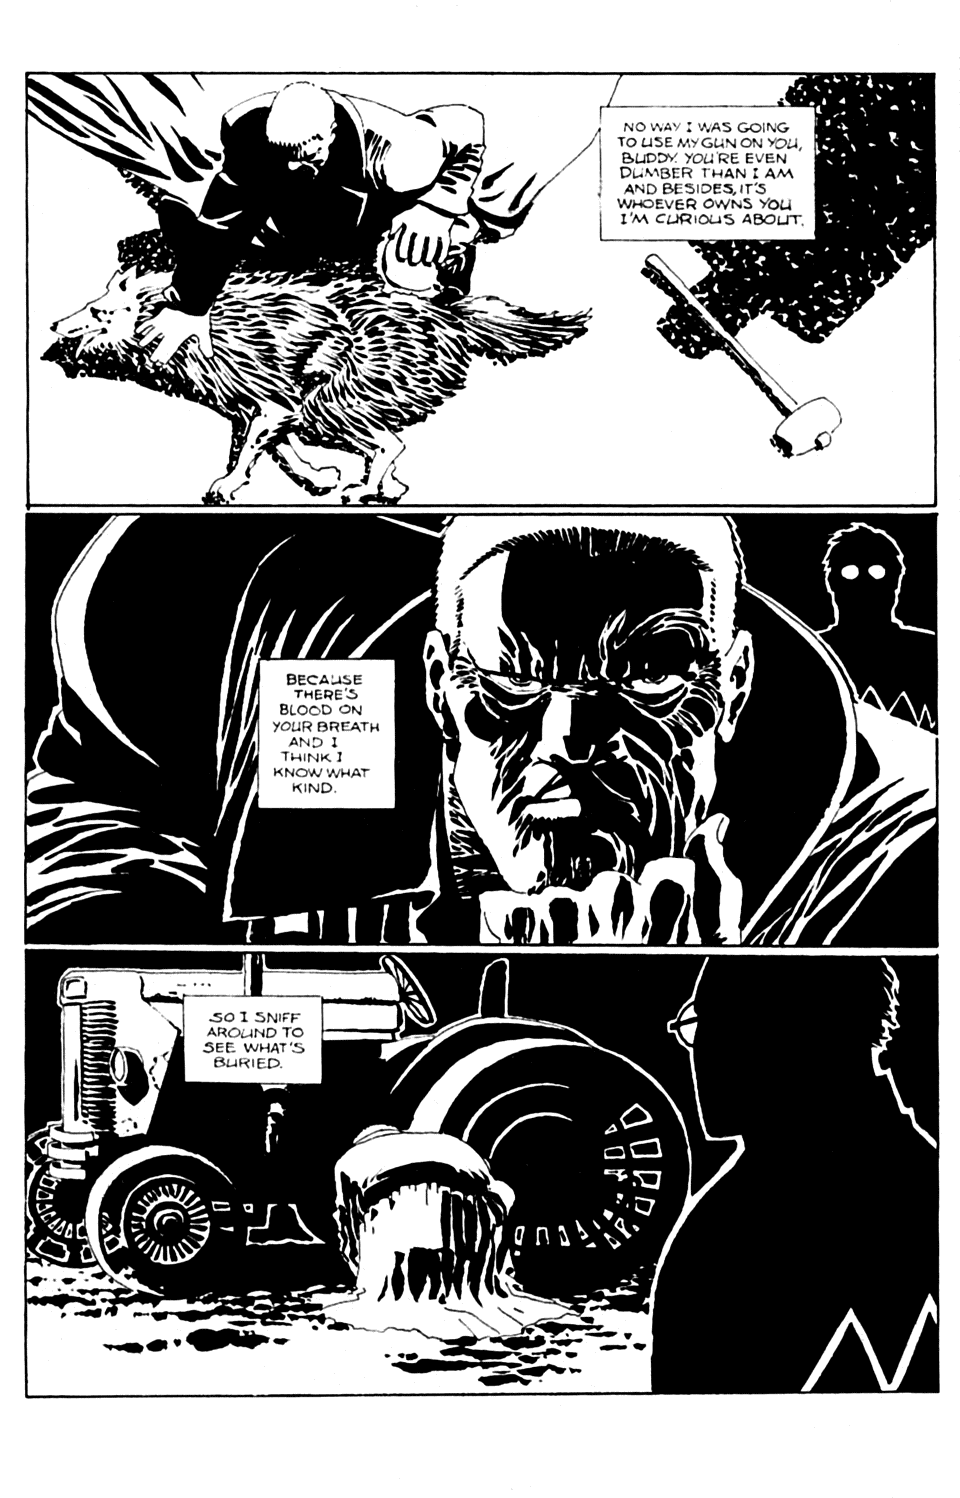Baloon: (601, 110, 817, 241), (254, 659, 392, 807), (185, 994, 324, 1082)
Vignetta: (26, 948, 943, 1389), (28, 512, 943, 946), (26, 73, 933, 501)
